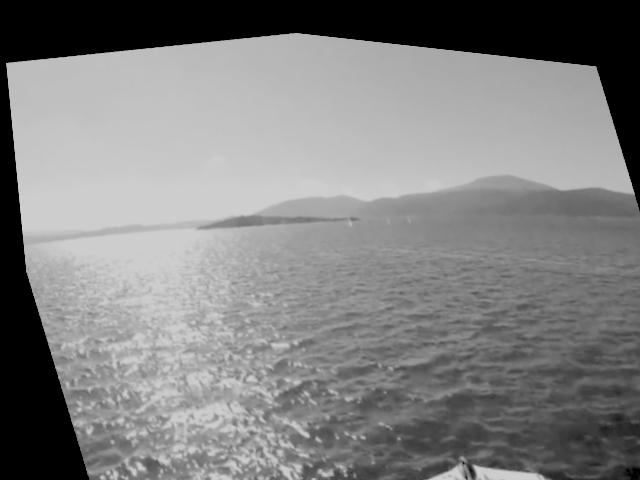hedef: (358, 398, 570, 480)
